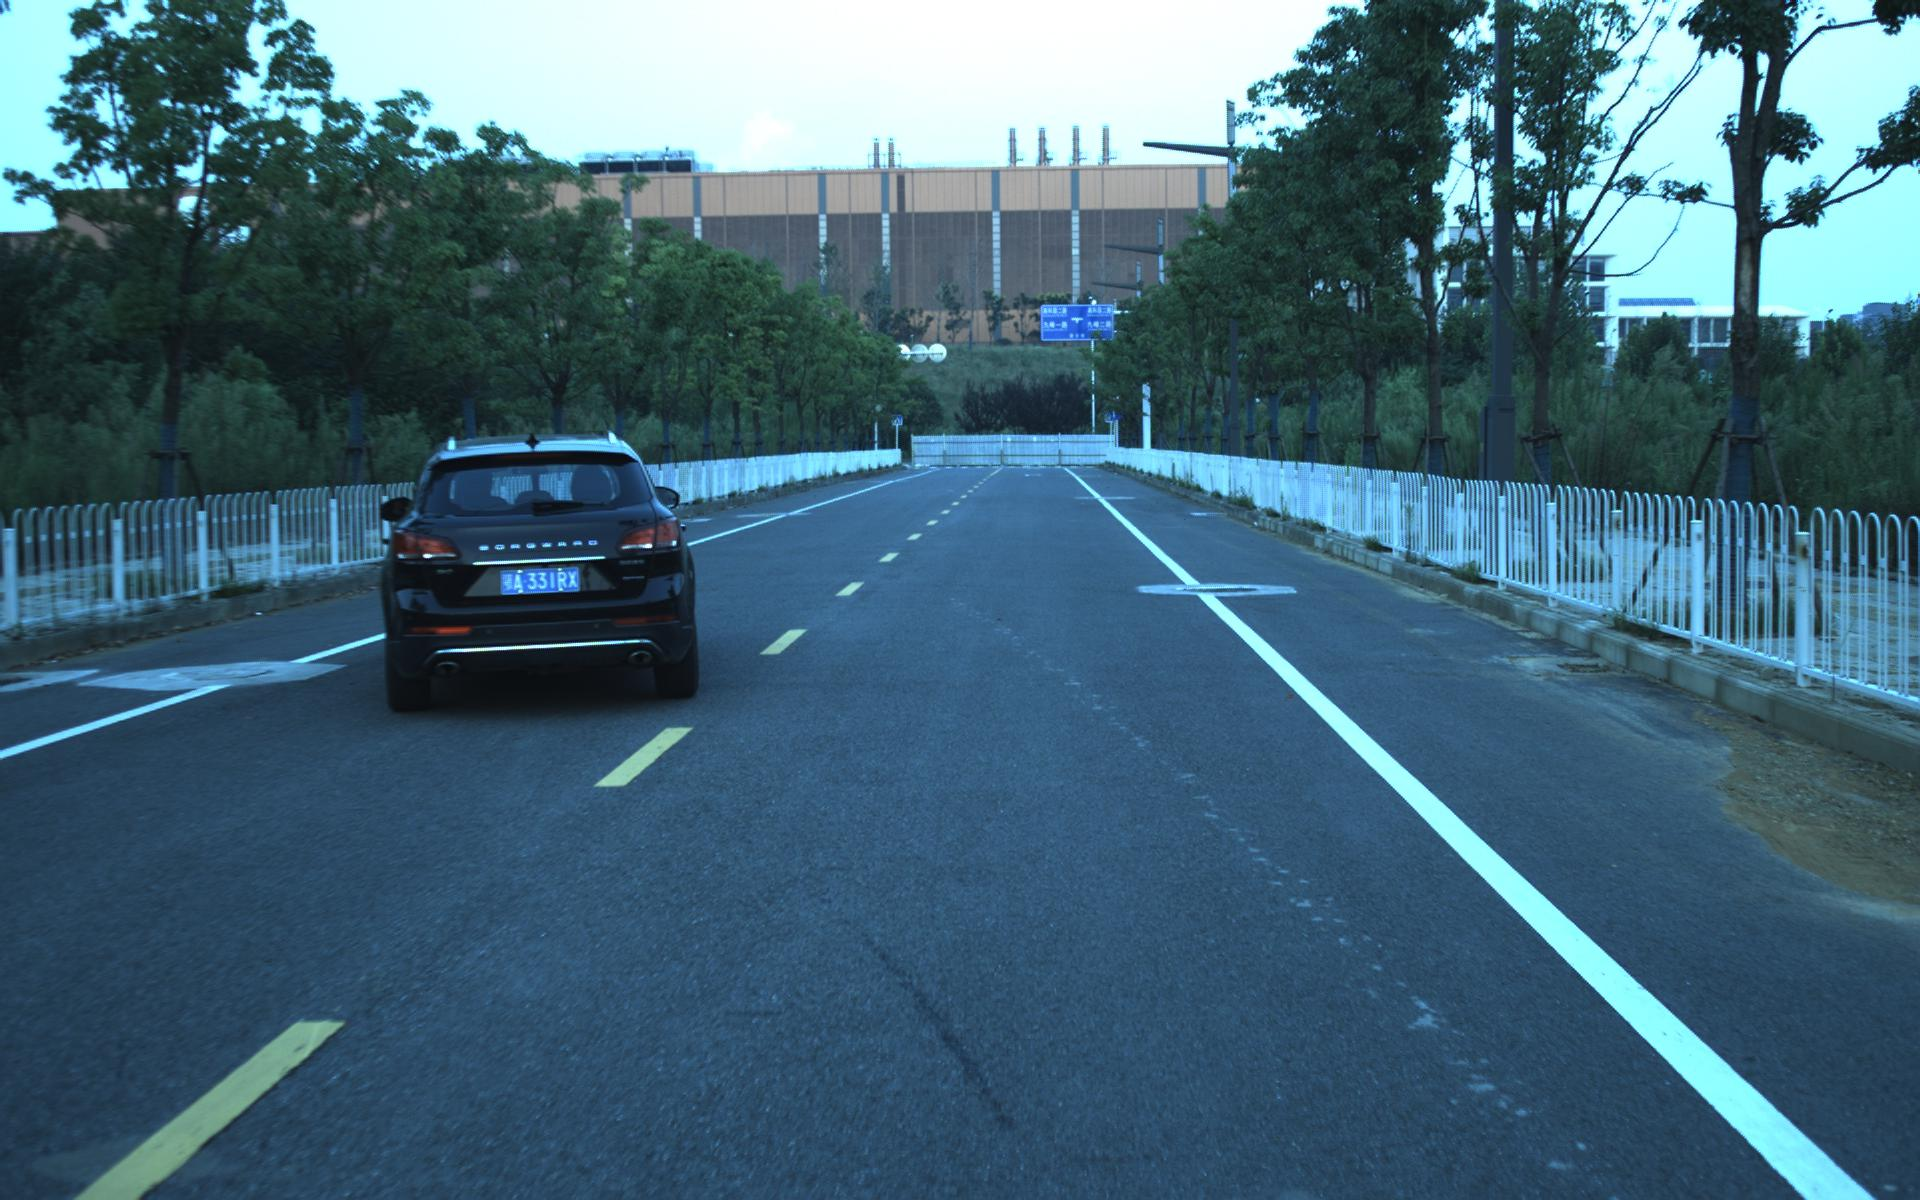Car: (368, 427, 706, 715)
